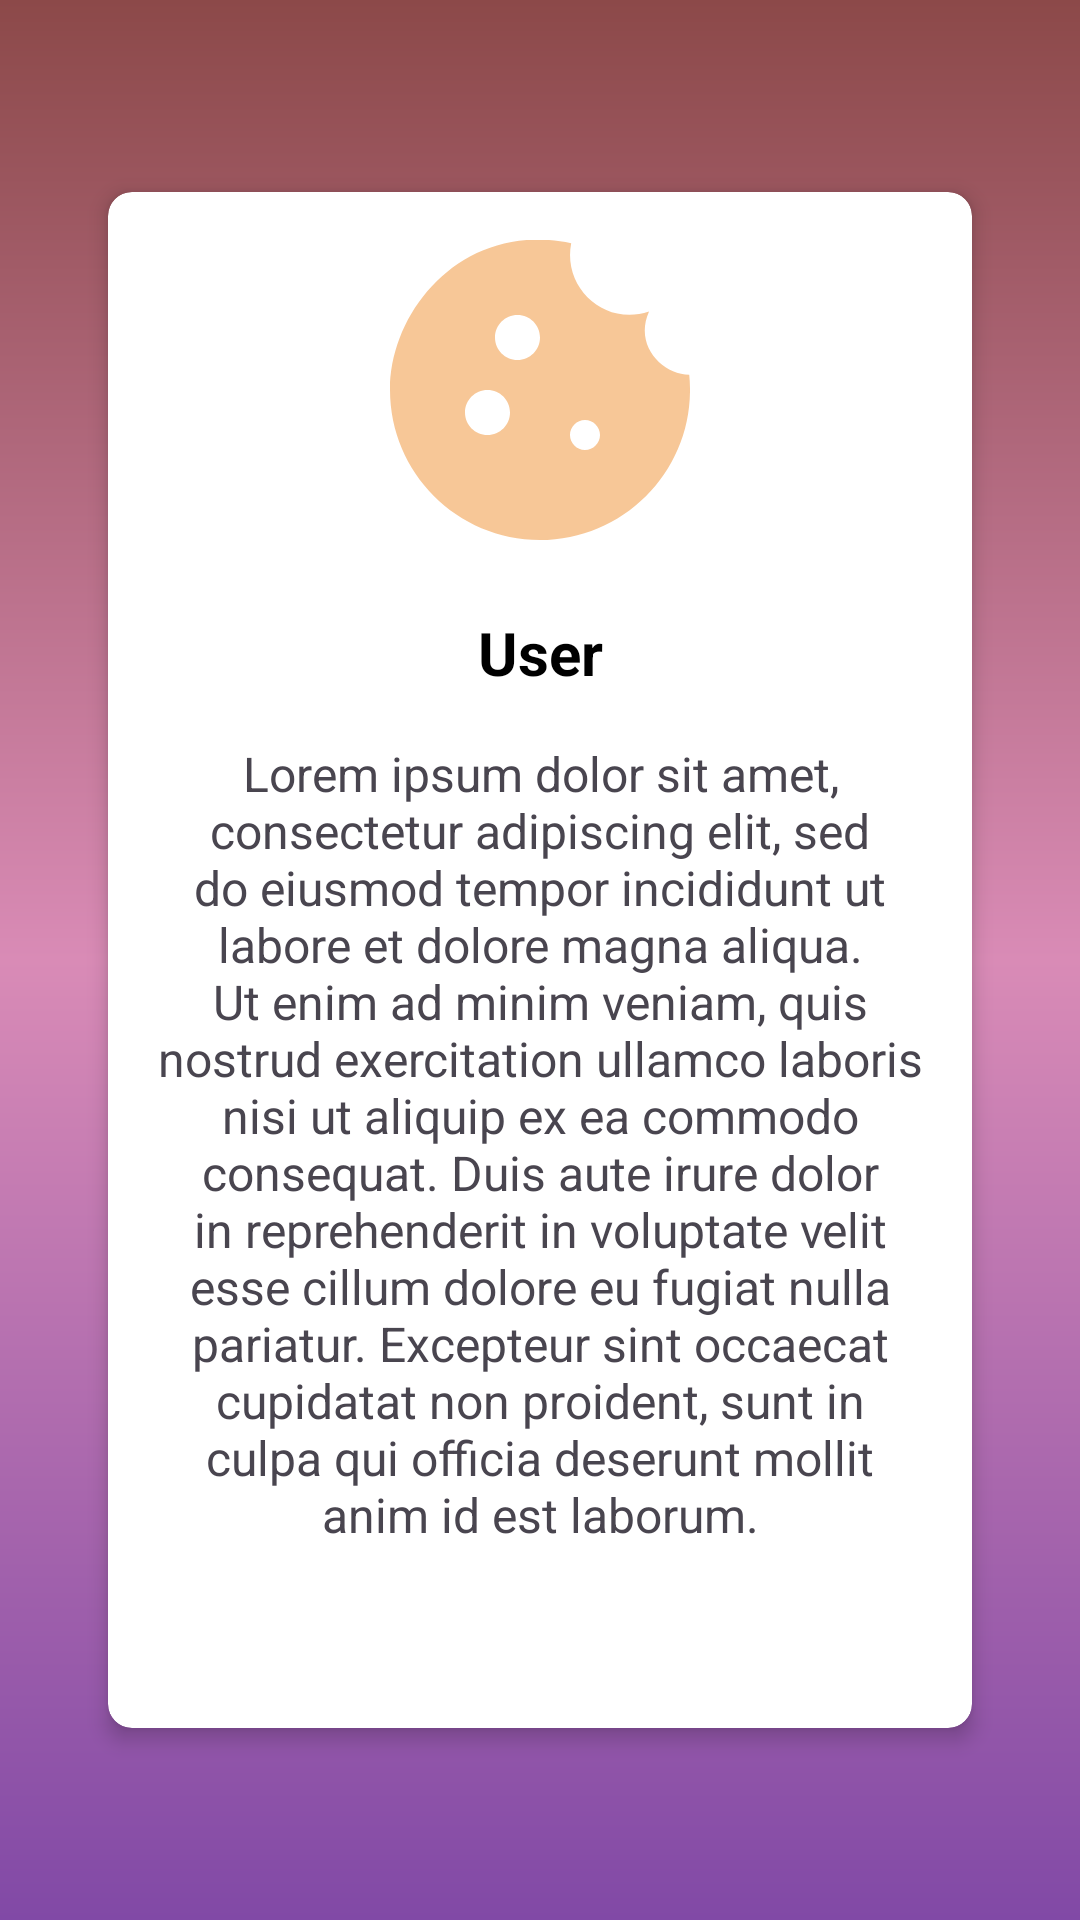

Point at icon controls on the screen. Image size 1080×1920, points as [x,y].
cookie: [540,390]
